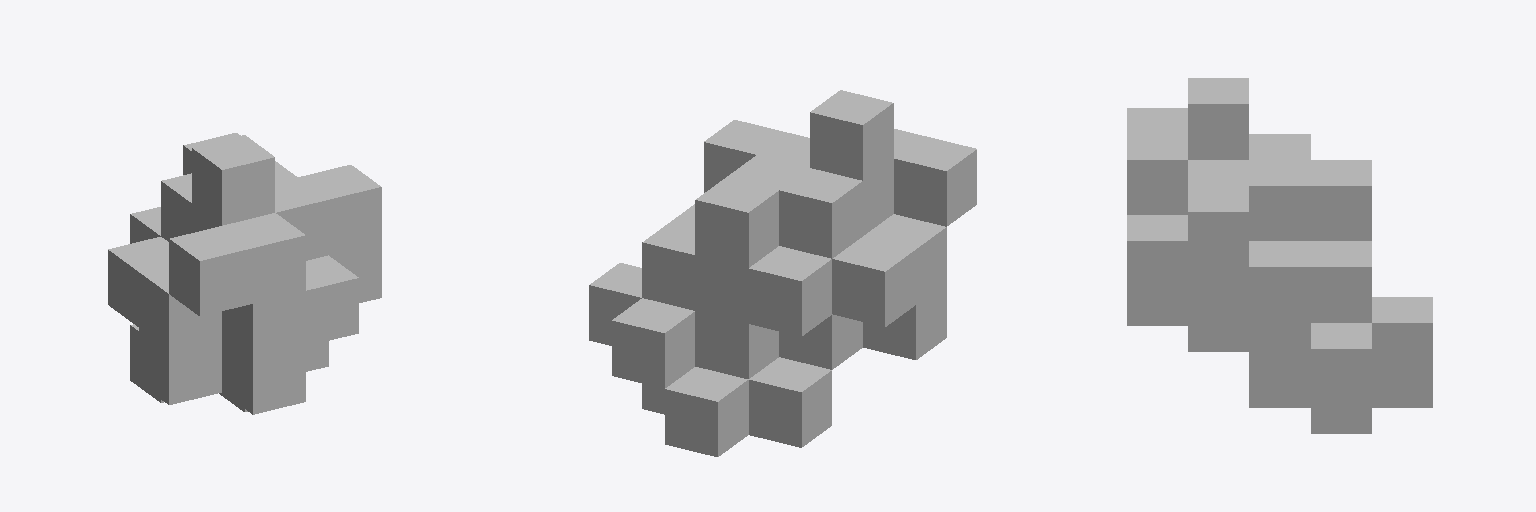
Rendered from a5empty.obj.
3 views of the same model, side by side, from view 1: azimuth 30°, elevation 25°; view 2: azimuth 150°, elevation 25°; view 3: azimuth 270°, elevation 25° (orthographic).
Parts seen in each view (by area): view 1: object 1; view 2: object 1; view 3: object 1.
Part boxes in pixels (x1,y1,x2,y2): object 1: (108, 133, 381, 414); object 1: (589, 90, 976, 456); object 1: (1127, 78, 1432, 433).
Bounding box in the file's own units: 0.5 × 0.5 × 0.5.